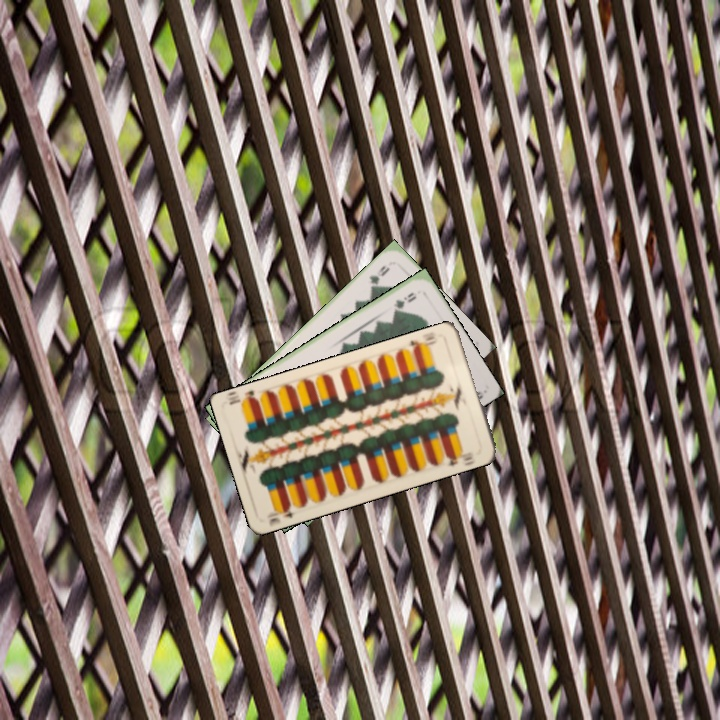E10: (265, 500, 303, 527), (405, 332, 440, 356)
G9: (365, 261, 393, 293), (389, 288, 419, 315)
